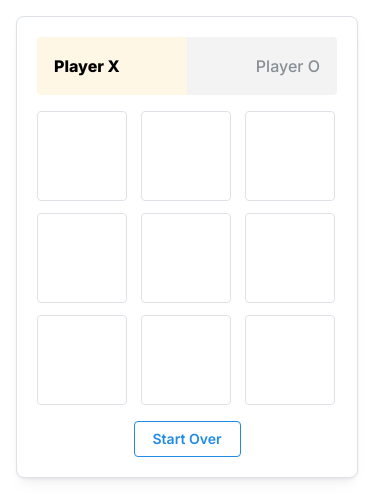
Test case: Board › should display the value of the player inside the square when it is clicked
Click the 1st button with test id "square" at [82, 156], box [37,111,127,201]
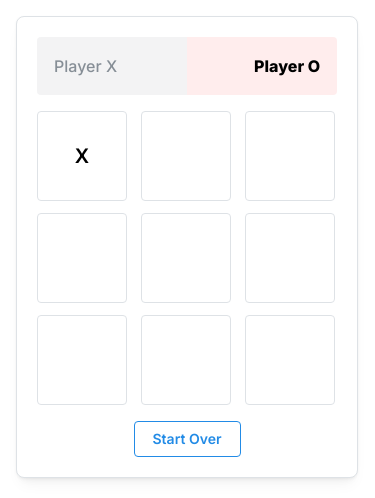
Click the 2nd button with test id "square" at [186, 156], box [141,111,231,201]
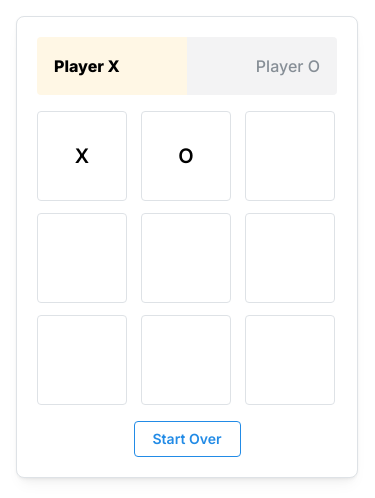
Check: the button with test id "square" reads "X", box [37,111,127,201]
Check: the button with test id "square" reads "O", box [141,111,231,201]
